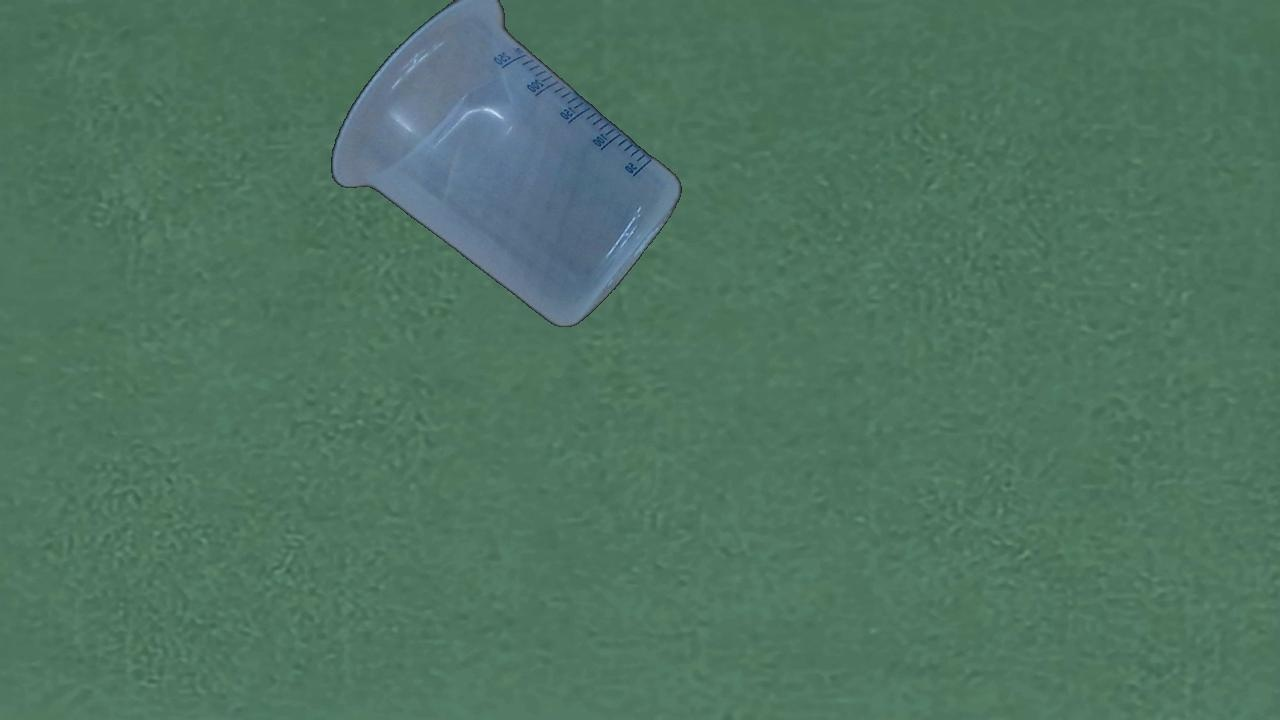becker: (328, 1, 682, 329)
